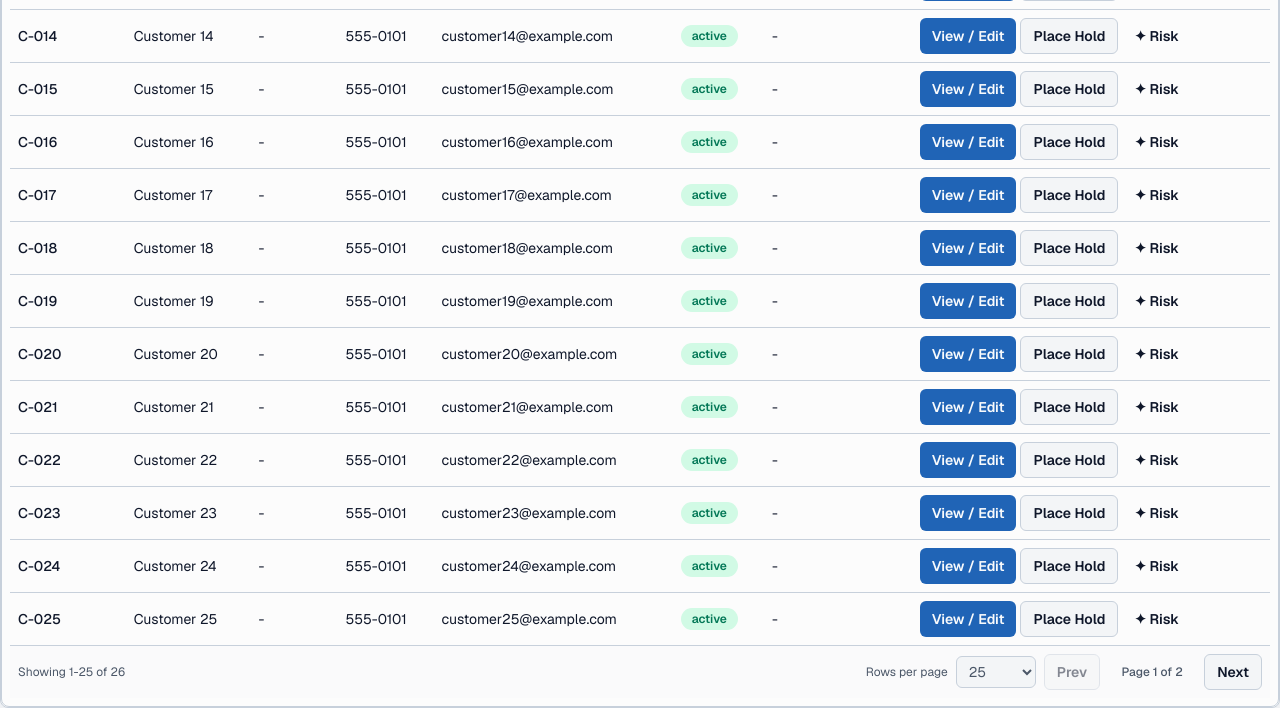
Test: CustomersPage › paginates the customer roster after filtering
(page scrolled)
Check: the text "Customer 26" is not shown
Check: the text "Page 1 of 2" is shown, box [1122,664,1183,680]
Click the button with aria-label "Next page".
click(1233, 672)  # box [1204,654,1262,690]
(page scrolled)
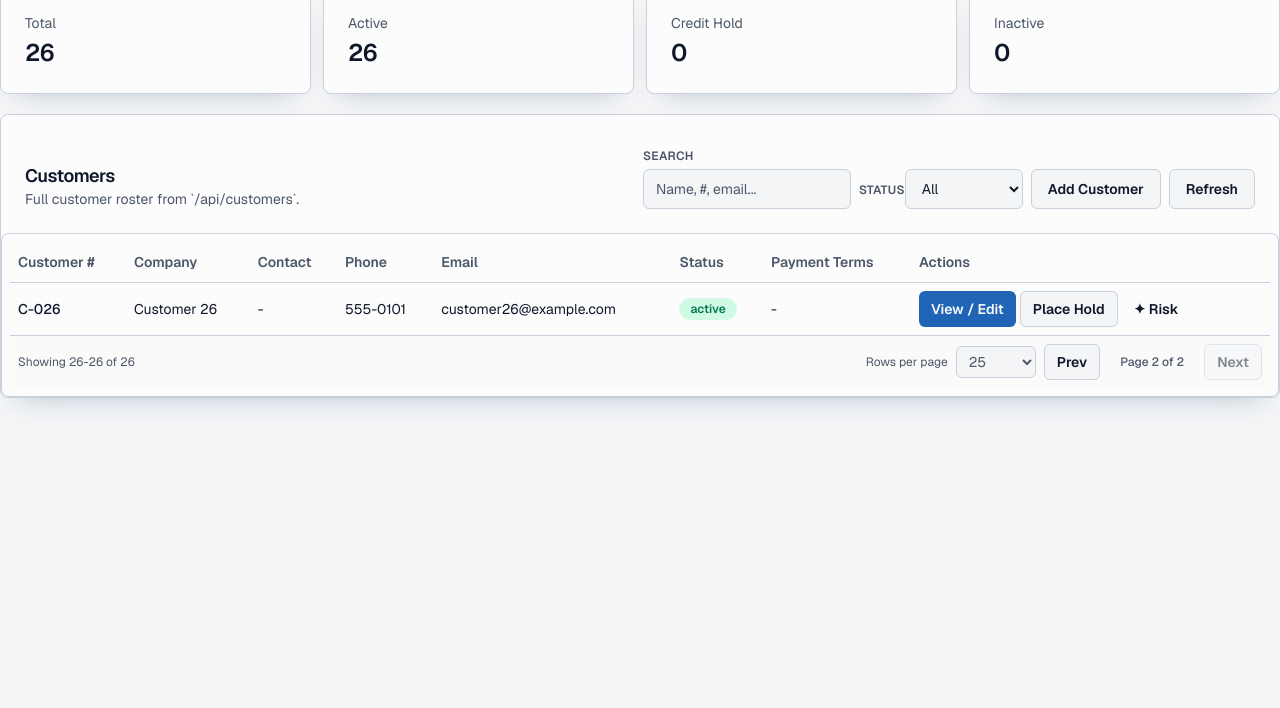
Check: the text "Customer 26" is shown, box [126,282,250,334]
Type "Customer 26" into the field with placeholder "Name, #, email...".
click(747, 189); type("Customer 26")  # box [643,169,851,209]
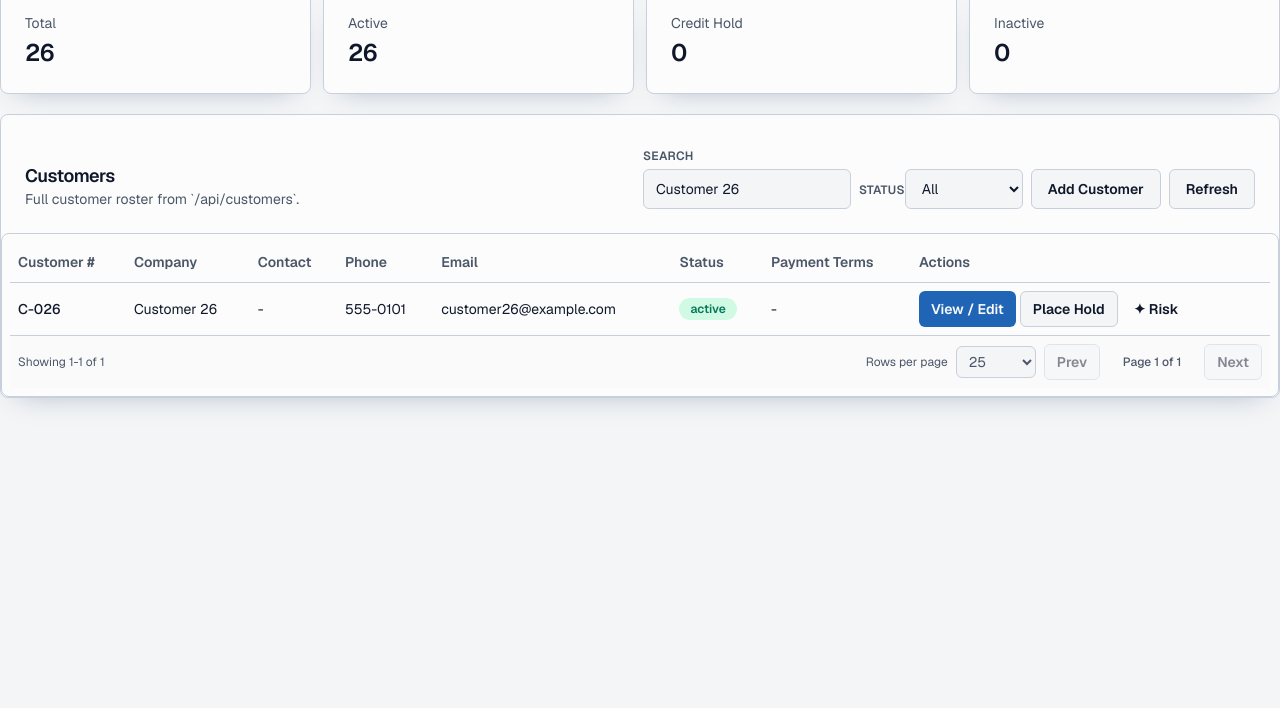
Check: the text "Customer 26" is shown, box [126,282,250,334]
Check: the text "Page 1 of 1" is shown, box [1123,354,1181,370]
